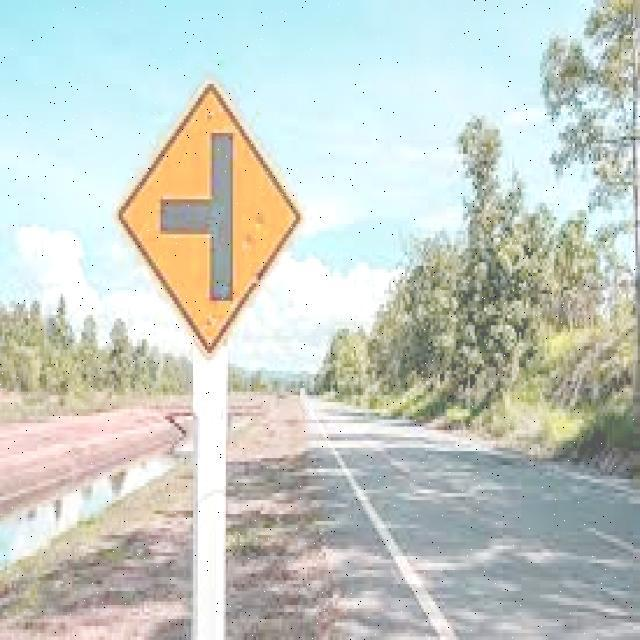Traffic sign: (112, 79, 304, 359)
